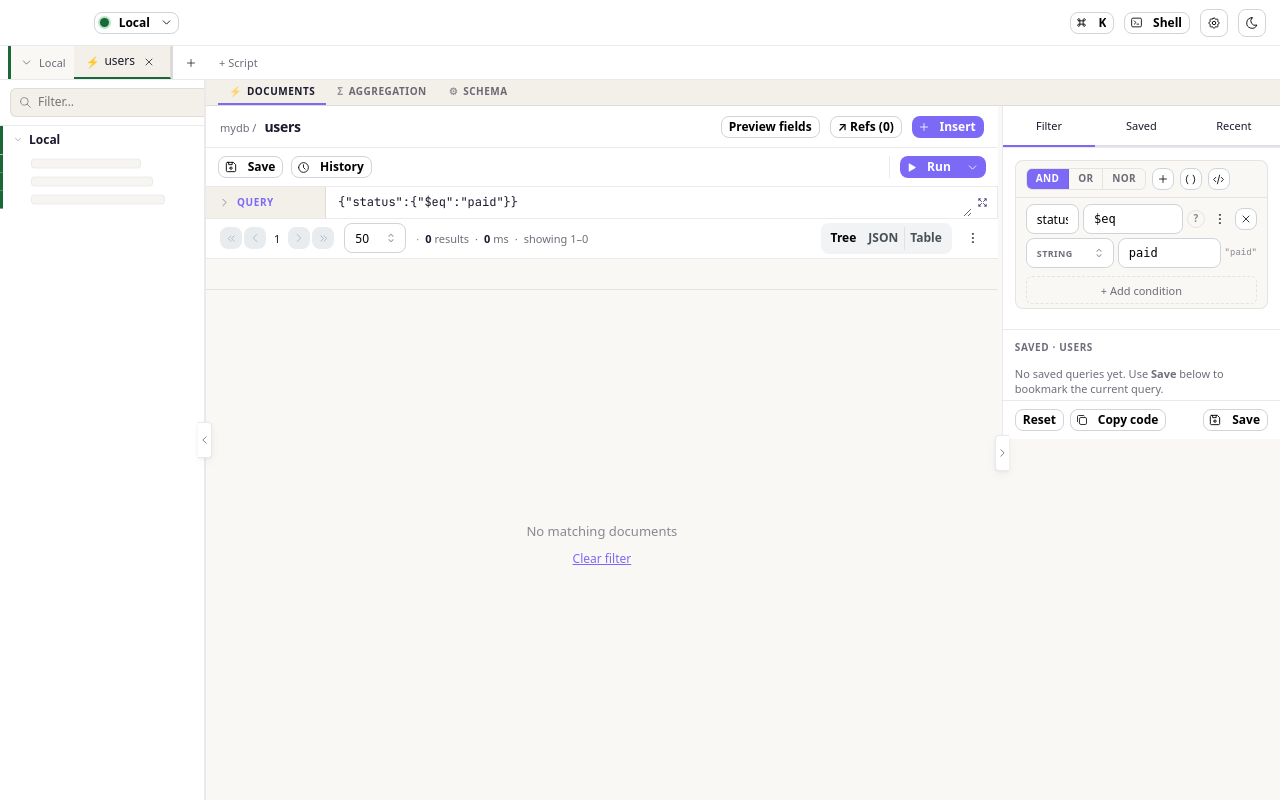
Test: W15 §13.1 — Reset confirms before wiping the tree › leaves the filter alone until the confirm is accepted
expect the text box with test id "query-bar-input" holds "{\"status\":{\"$eq\":\"paid\"}}": met, box [330,187,972,218]
Click the button "Reset".
click(1039, 420)  # box [1015,409,1064,431]
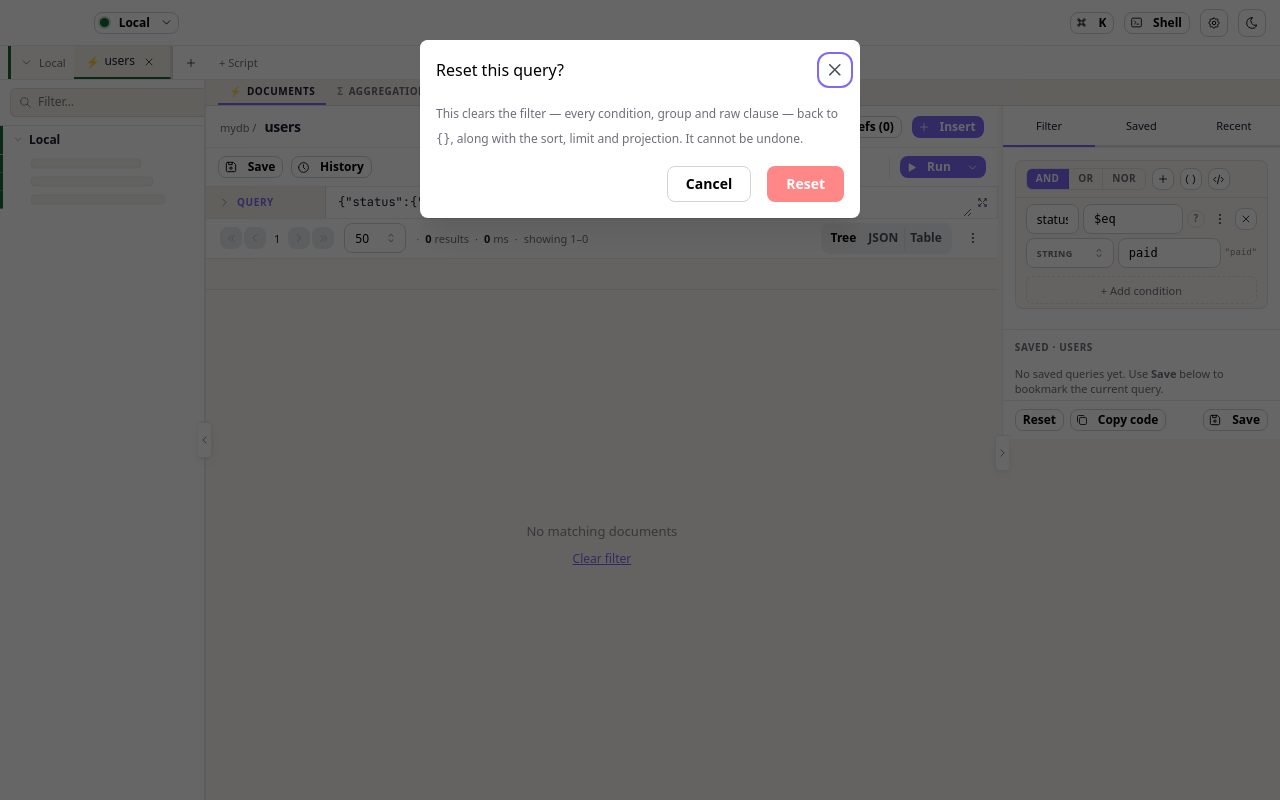
expect the text box with test id "query-bar-input" holds "{\"status\":{\"$eq\":\"paid\"}}": met, box [330,187,972,218]
# Backing out keeps the work.
Click the button "Cancel".
click(709, 184)  # box [667,166,751,202]
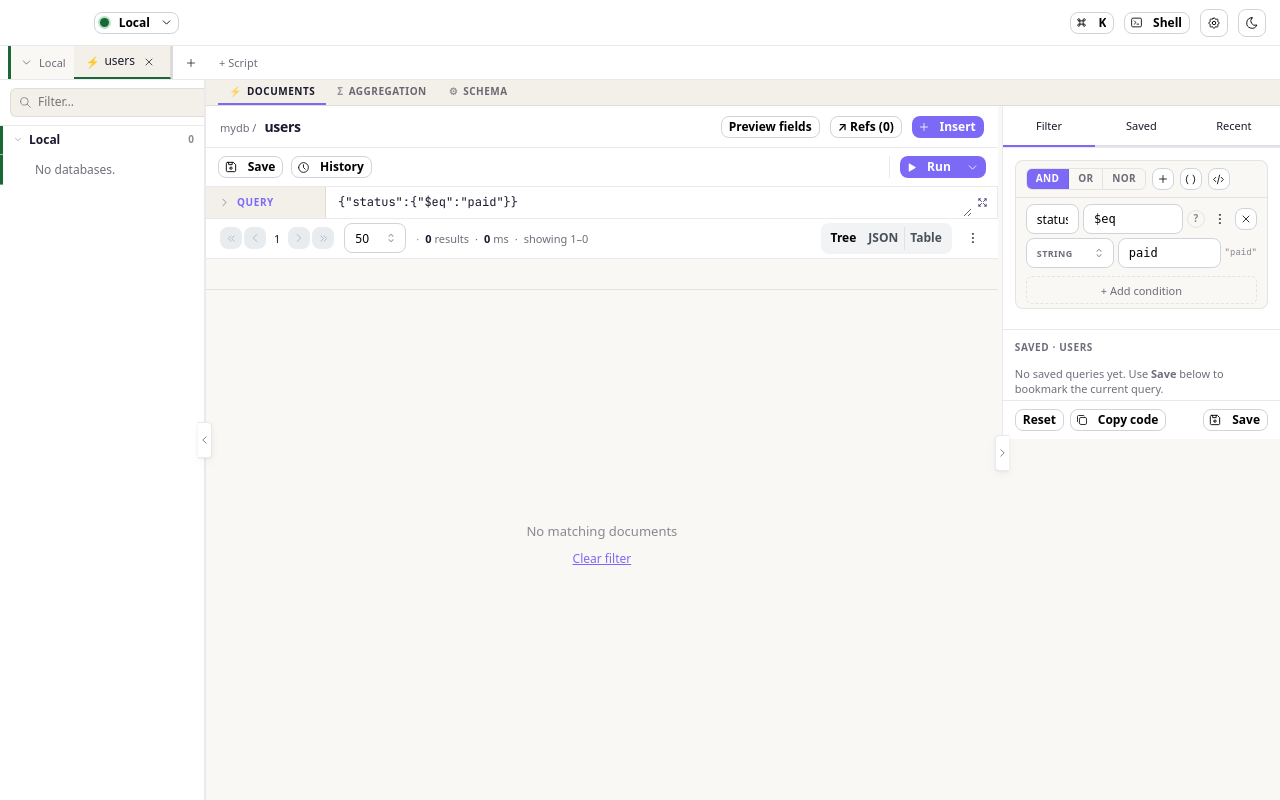
expect the text box with test id "query-bar-input" holds "{\"status\":{\"$eq\":\"paid\"}}": met, box [330,187,972,218]
expect the dialog is gone: met
